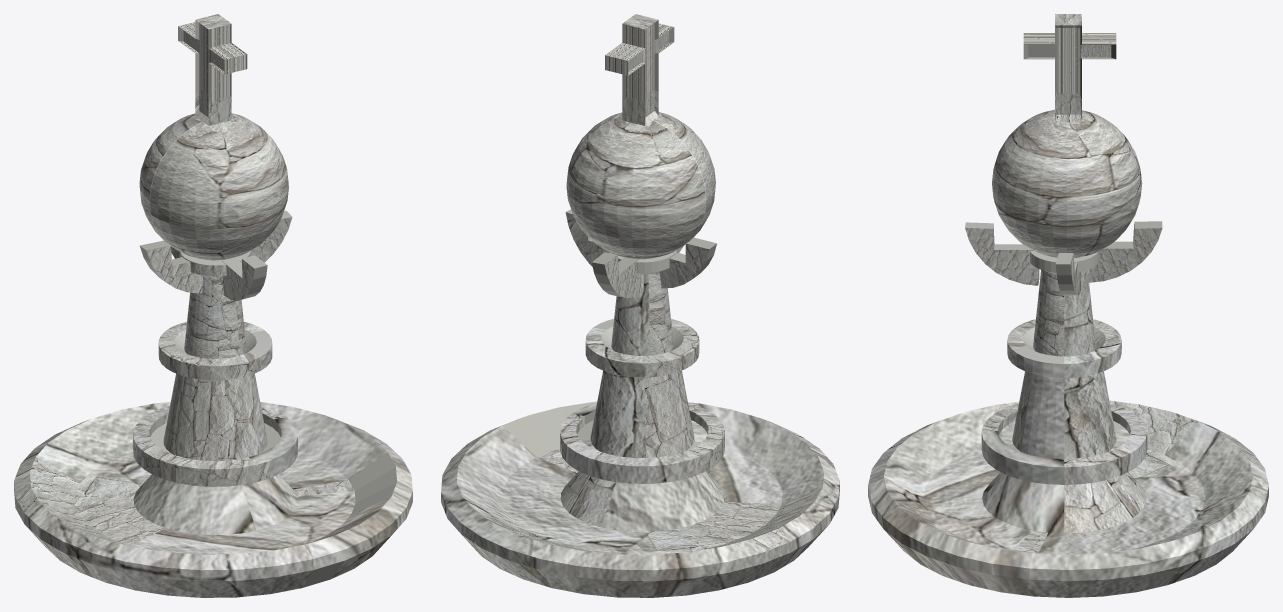
File: Fountain.fbx
The picture shows the model from 3 angles, left to right: view 1: azimuth 30°, elevation 25°; view 2: azimuth 150°, elevation 25°; view 3: azimuth 270°, elevation 25°; orthographic projection.
Visible parts, largest first — view 1: Circle; view 2: Circle; view 3: Circle.
Boxes of the visible parts, box(x1,y1,x2,y2) form: Circle: box(14, 14, 412, 597); Circle: box(441, 14, 839, 597); Circle: box(868, 14, 1268, 597).
Bounding box in the file's own units: 533 × 739 × 533.
2 materials, 2 textured.
